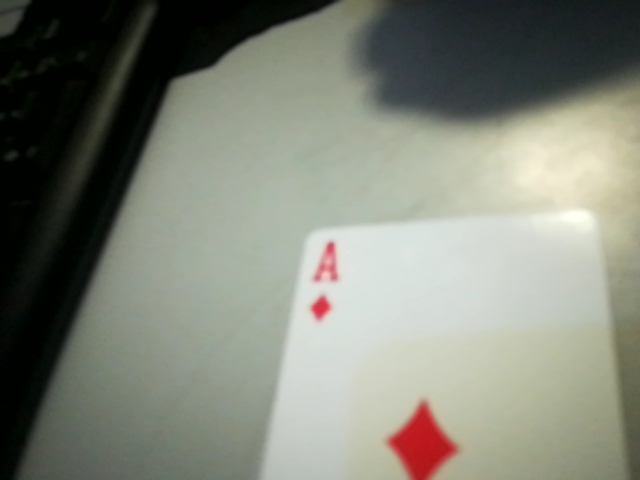fk a: (293, 235, 357, 334)
